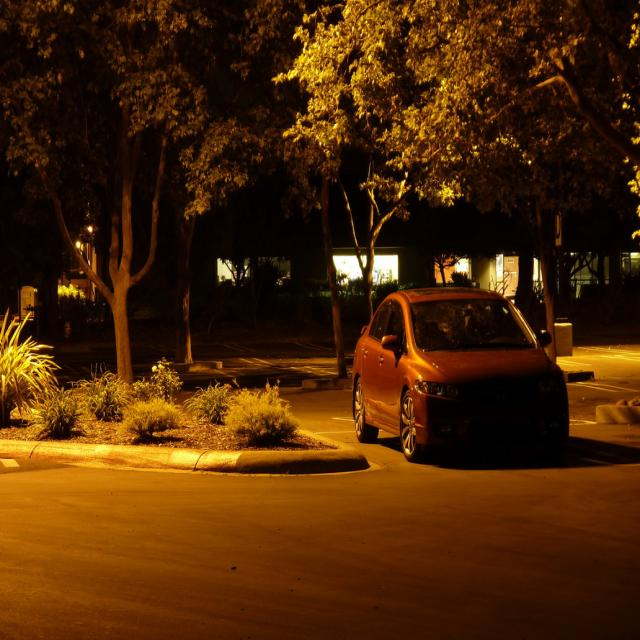Car: (349, 288, 571, 470)
